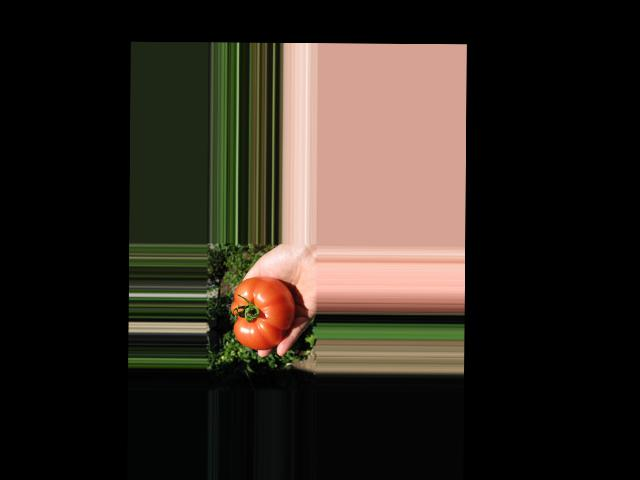tomato: (230, 277, 294, 350)
